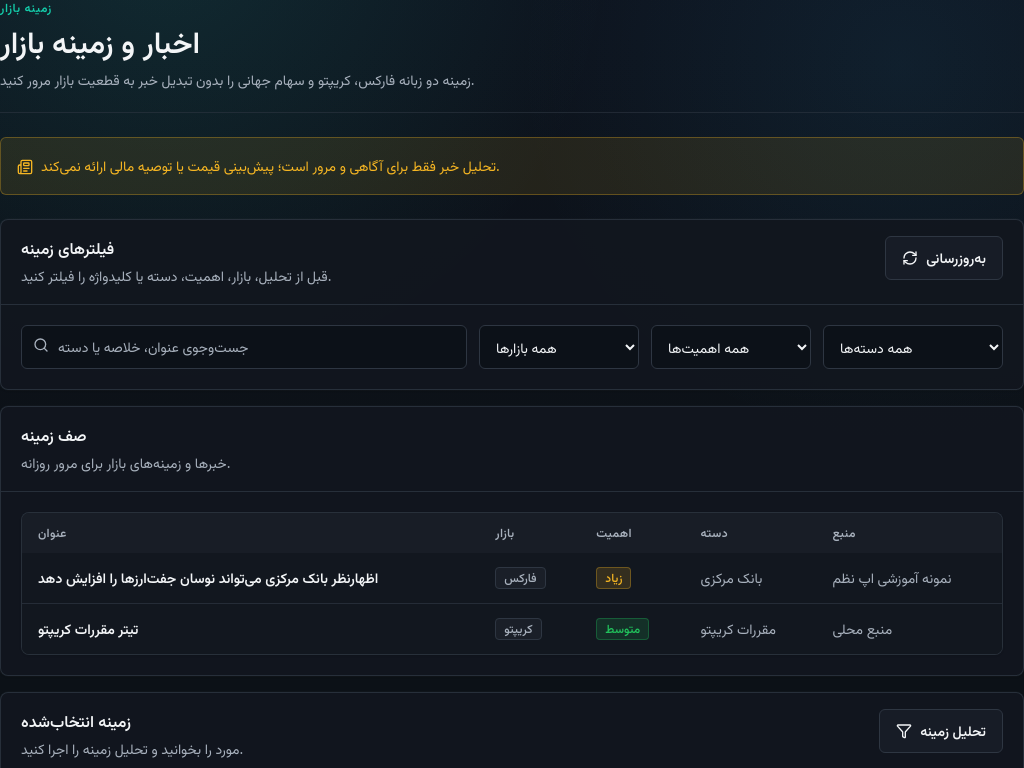
NewsScreen in Persian › has no English after running the analysis
The image size is (1024, 768).
Expected: the table is shown, [22,513,1002,654]
Click the button "تحلیل زمینه" at (941, 731), box [879,709,1003,753]
(page scrolled)
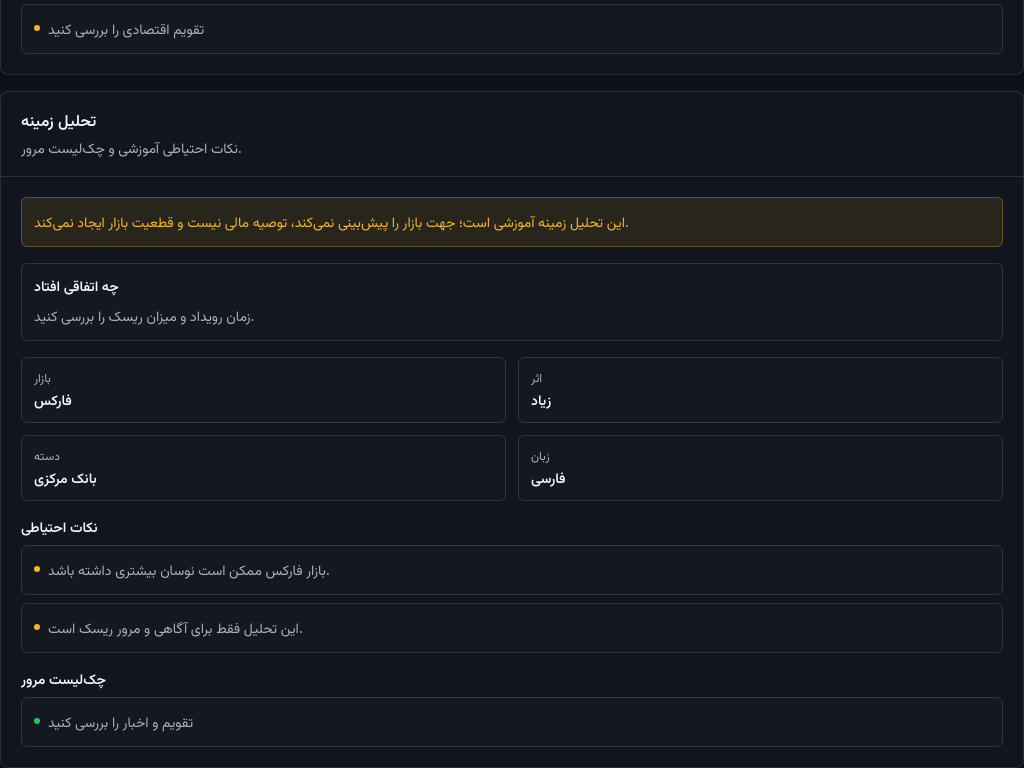
Expected: the text "بانک مرکزی" is shown, [34,468,97,487]
